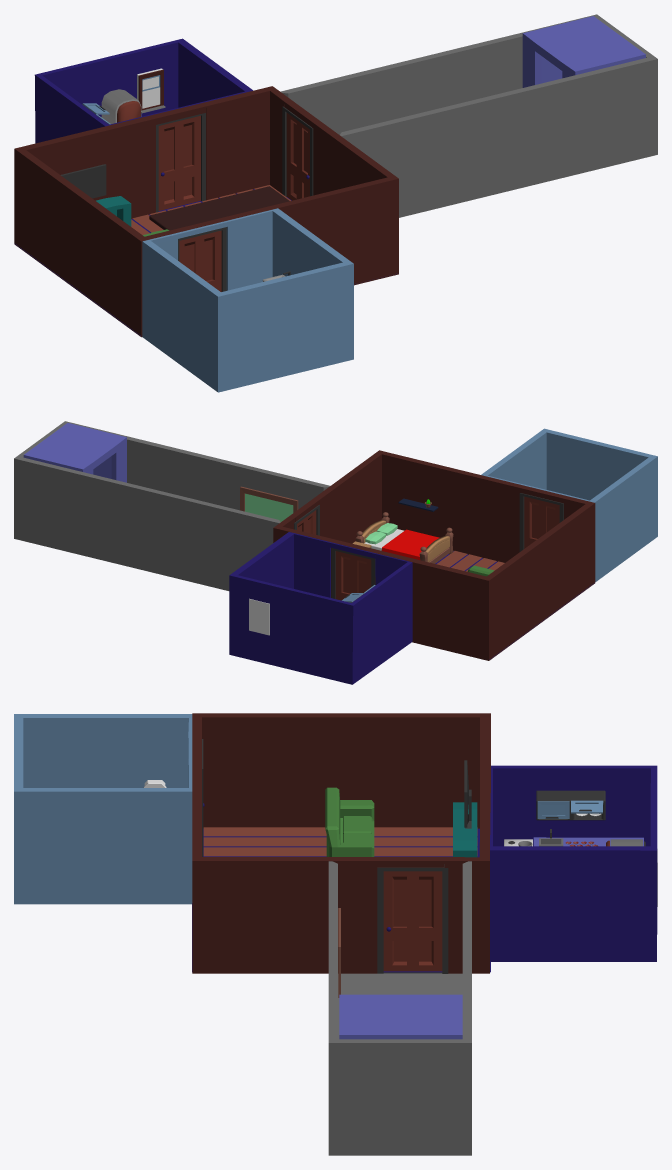
Rendered from gamejam2.fbx.
3 views of the same model, one above another, from view 1: azimuth 30°, elevation 25°; view 2: azimuth 150°, elevation 25°; view 3: azimuth 270°, elevation 25° (orthographic). The views are drawn at different scales.
Parts seen in each view (by area): view 1: wall, ehe, bathroom, Plane, Plane.028, gate.001, hali, gate, gate.002, tv, door, door.001 (+5 smaller); view 2: wall, ehe, Plane, bathroom, Plane.028, gate.001, cerceve, gate.002, Plane.018, odazemin, Cube, Plane.022 (+2 smaller); view 3: wall, bathroom, Plane, ehe, odazemin, gate, Plane.028, chair, door, zemin2, tv unit, raf (+1 smaller).
Boxes of the visible parts, left/top/right/bottom form: wall: left=14, top=86, right=398, bottom=337; ehe: left=280, top=14, right=657, bottom=217; bathroom: left=142, top=208, right=353, bottom=392; Plane: left=34, top=38, right=252, bottom=143; Plane.028: left=522, top=16, right=645, bottom=87; gate.001: left=158, top=115, right=200, bottom=210; hali: left=149, top=186, right=289, bottom=230; gate: left=286, top=113, right=309, bottom=200; gate.002: left=179, top=230, right=221, bottom=291; tv: left=60, top=164, right=106, bottom=198; door: left=282, top=106, right=313, bottom=196; door.001: left=156, top=113, right=205, bottom=212; wall: left=273, top=450, right=595, bottom=660; ehe: left=14, top=421, right=329, bottom=590; Plane: left=229, top=532, right=412, bottom=684; bathroom: left=481, top=428, right=657, bottom=581; Plane.028: left=23, top=423, right=126, bottom=482; gate.001: left=335, top=551, right=371, bottom=602; cerceve: left=240, top=486, right=298, bottom=521; gate.002: left=524, top=496, right=559, bottom=548; Plane.018: left=381, top=529, right=439, bottom=559; odazemin: left=436, top=551, right=504, bottom=571; Cube: left=249, top=598, right=269, bottom=635; Plane.022: left=362, top=520, right=449, bottom=562; wall: left=192, top=713, right=490, bottom=973; bathroom: left=14, top=714, right=192, bottom=904; Plane: left=490, top=765, right=657, bottom=961; ehe: left=328, top=861, right=471, bottom=1155; odazemin: left=203, top=827, right=477, bottom=856; gate: left=383, top=871, right=442, bottom=971; Plane.028: left=339, top=994, right=462, bottom=1039; chair: left=325, top=787, right=374, bottom=856; door: left=377, top=864, right=448, bottom=973; zemin2: left=192, top=828, right=490, bottom=972; tv unit: left=453, top=802, right=477, bottom=857; raf: left=536, top=790, right=605, bottom=820.
Size of the model in its own units: 4104 by 683 by 3384.
